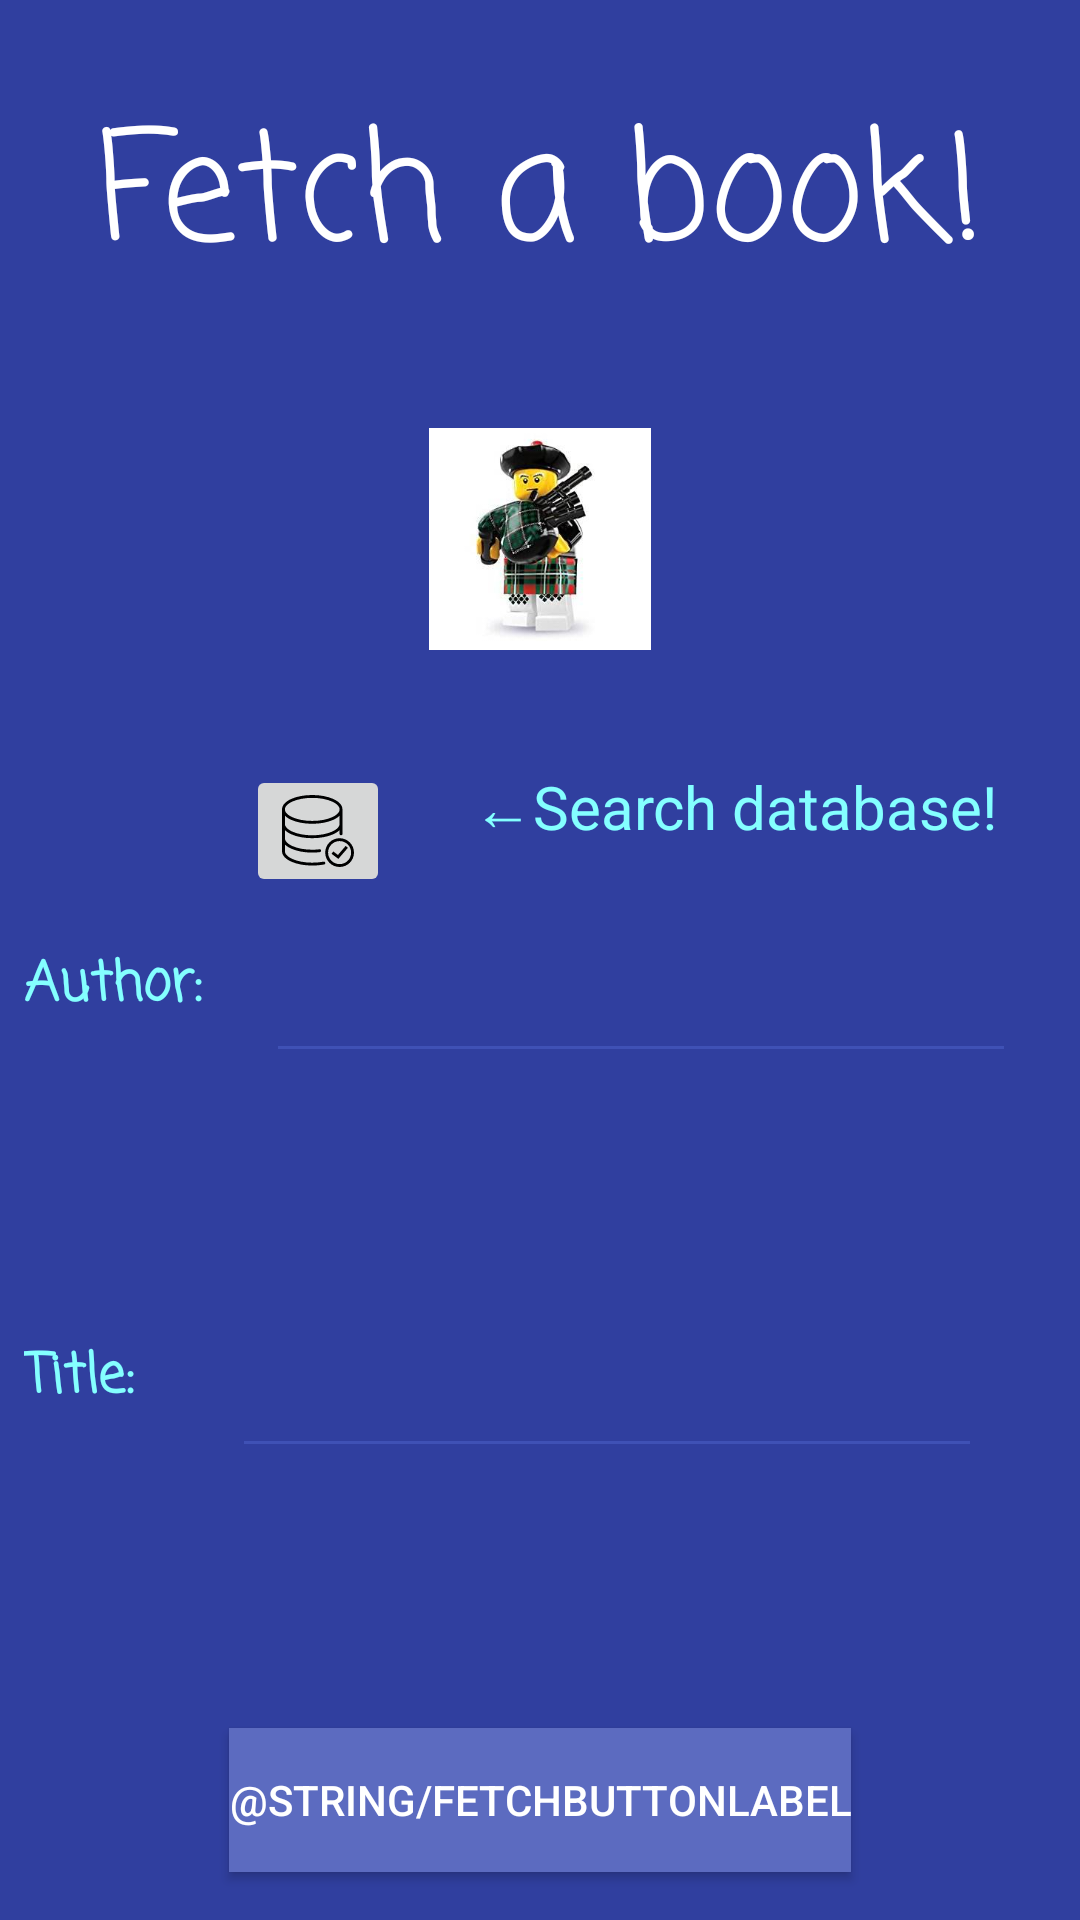

Screen size 1080px x 1920px. Icon name, then its box in pixels as (x1, y1, x2, y2):
accept database: (258, 783, 378, 879)
